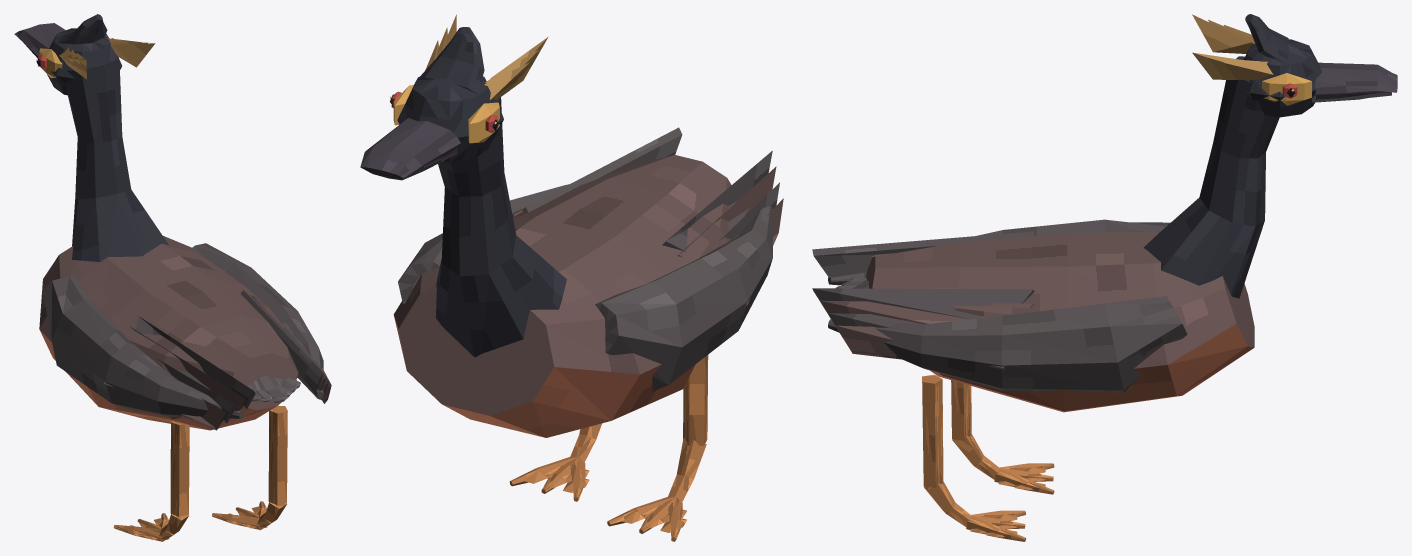
File: mon_grebe.glb
The picture shows the model from 3 angles, left to right: view 1: azimuth 30°, elevation 25°; view 2: azimuth 150°, elevation 25°; view 3: azimuth 270°, elevation 25°; orthographic projection. The views are drawn at different scales.
Parts seen in each view (by area): view 1: closed_body; view 2: closed_body; view 3: closed_body.
Part boxes in pixels (box(x1,y1,x2,y2)): closed_body: box(14, 14, 331, 541); closed_body: box(360, 14, 783, 541); closed_body: box(812, 14, 1397, 541).
Size of the model in its own units: 0.1346 by 0.2743 by 0.295.
1 material, 1 textured.
